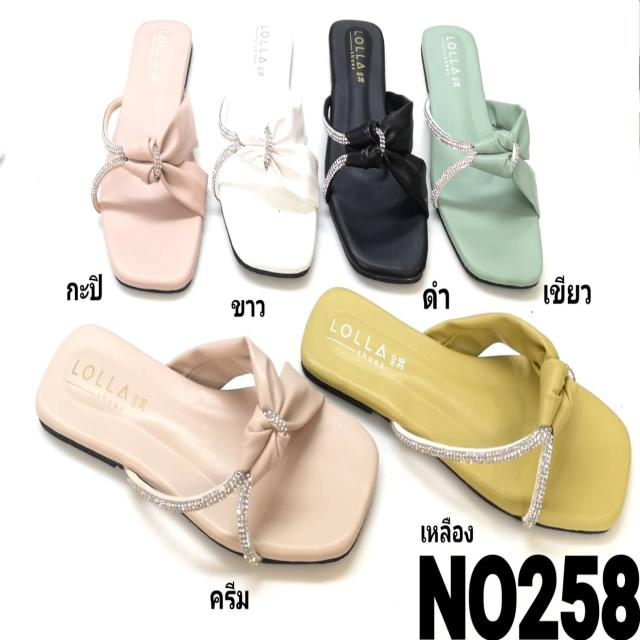black: (327, 19, 431, 289)
cream: (31, 320, 373, 560)
green: (420, 22, 545, 289)
kapi: (101, 17, 206, 278)
white: (213, 30, 324, 275)
yellow: (300, 280, 627, 530)
